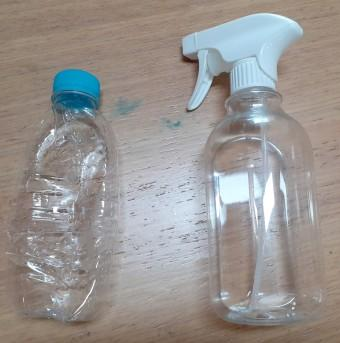bottle: (180, 15, 324, 324), (0, 69, 83, 325)
